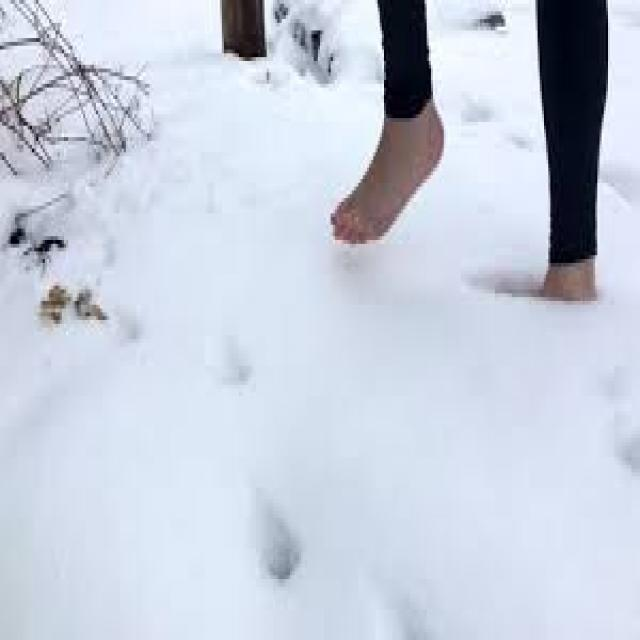No_Shoe: (330, 104, 444, 258)
